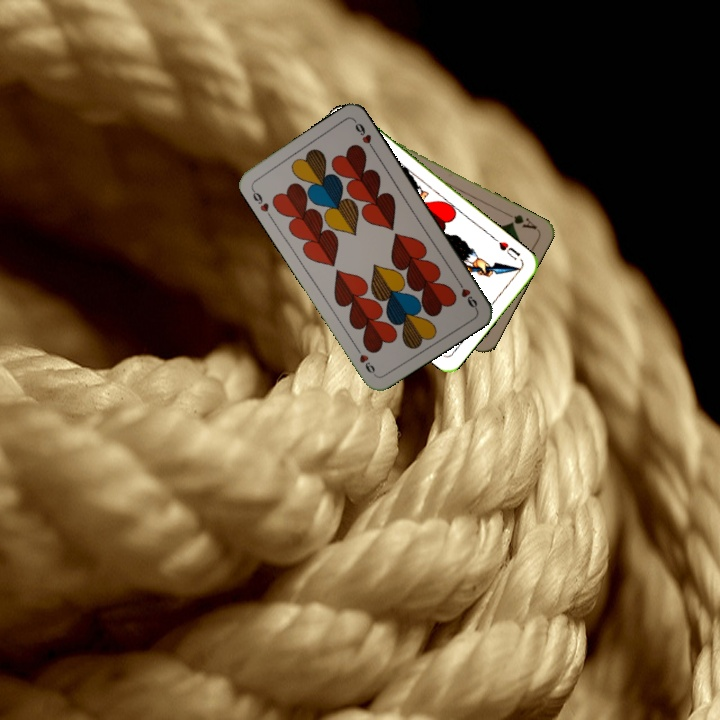GA: (502, 208, 539, 232)
H9: (453, 275, 480, 312), (247, 184, 274, 220)
HU: (490, 234, 523, 262)
